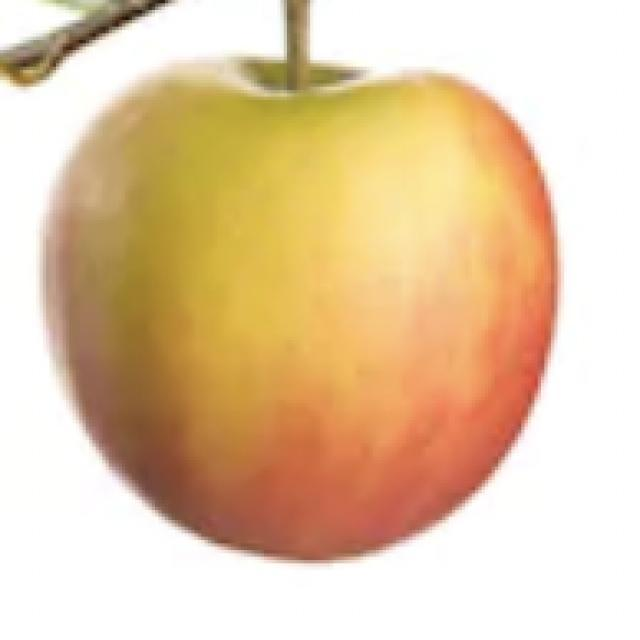Fresh Apple: (55, 60, 550, 550)
